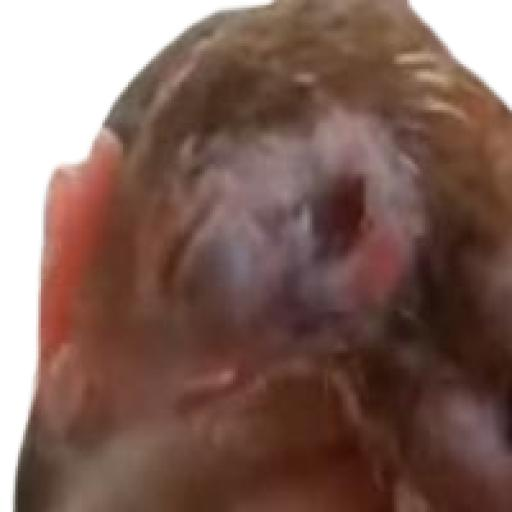disease: (252, 117, 470, 298)
